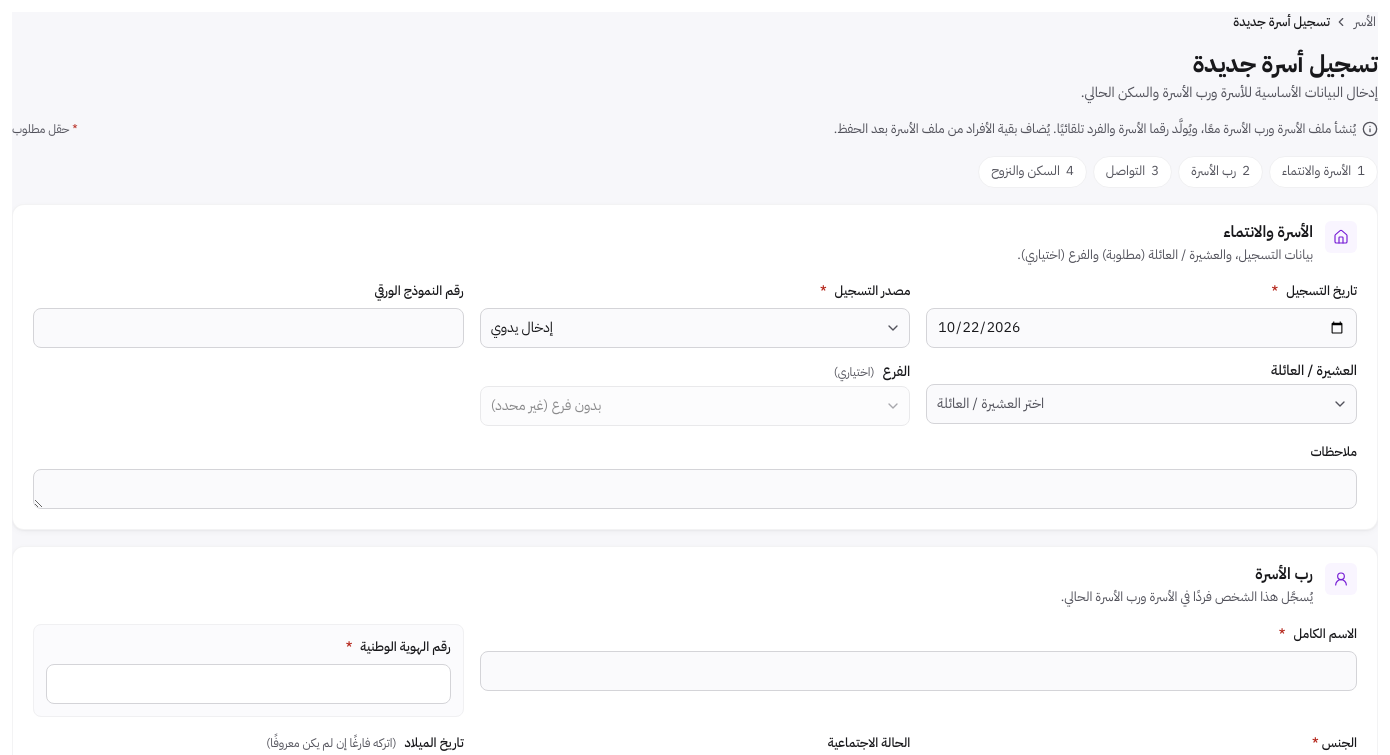
Staff family registration › reports a value held by an undescribed record as taken — the generic message, nothing about it
The width and height of the screenshot is (1390, 755).
Type "401234567" into the field labelled "رقم الهوية الوطنية *" at (248, 684), box [46,664,451,704]
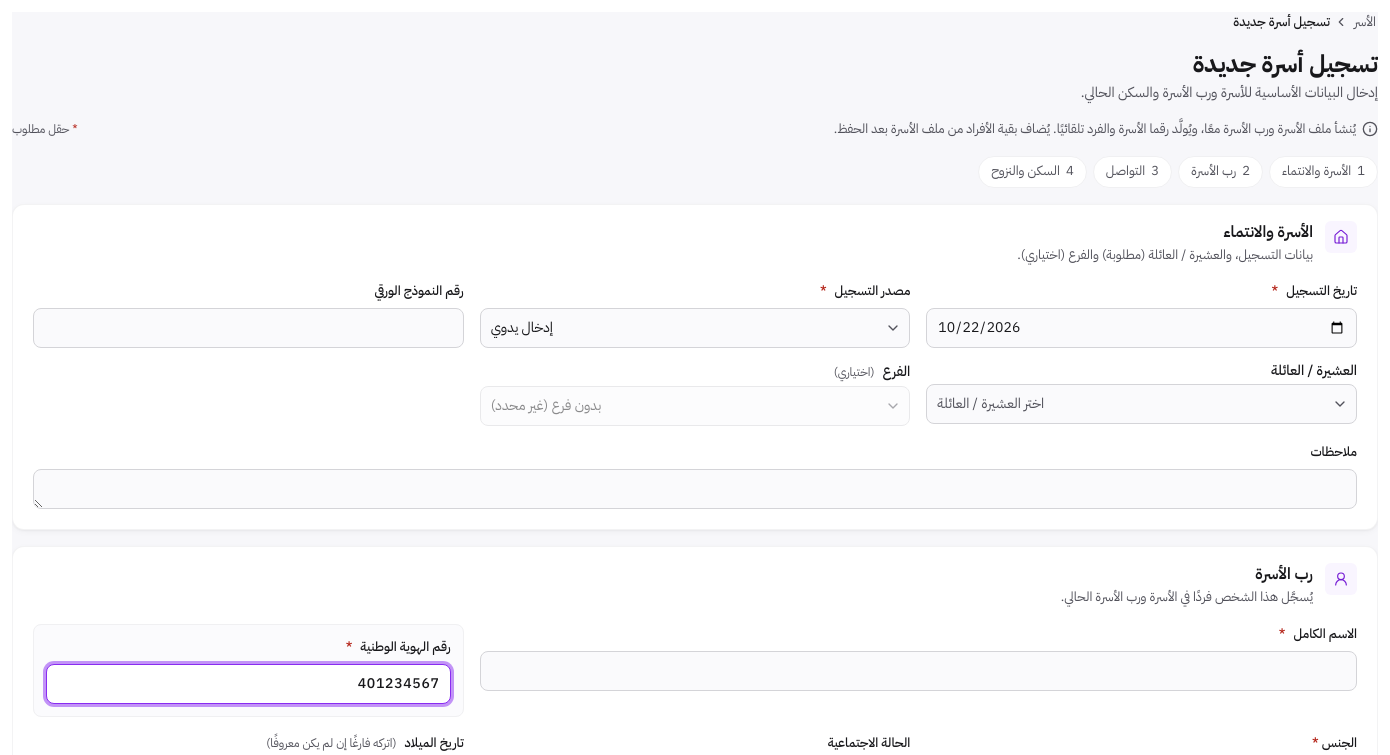
Press Tab
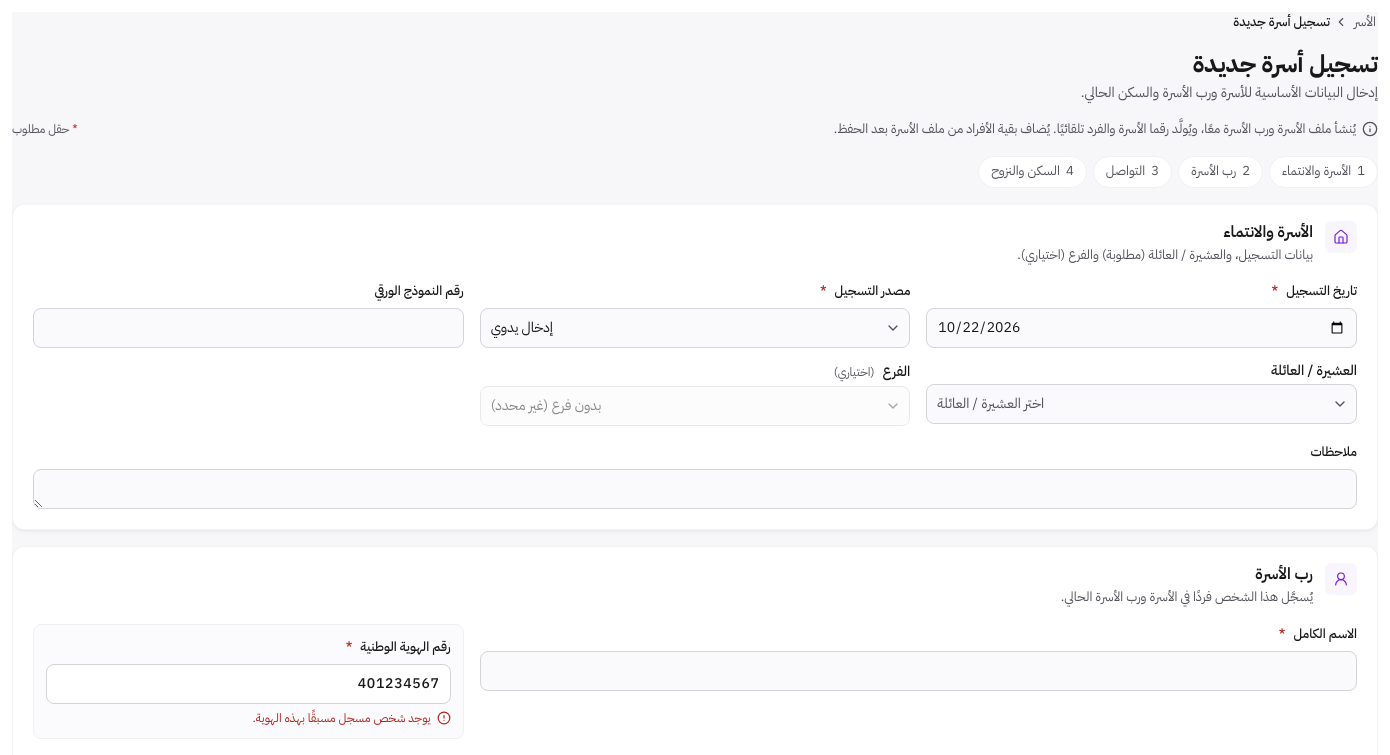
Check: the text "يوجد شخص مسجل مسبقًا بهذه الهوية." is shown, box [252,709,451,727]
